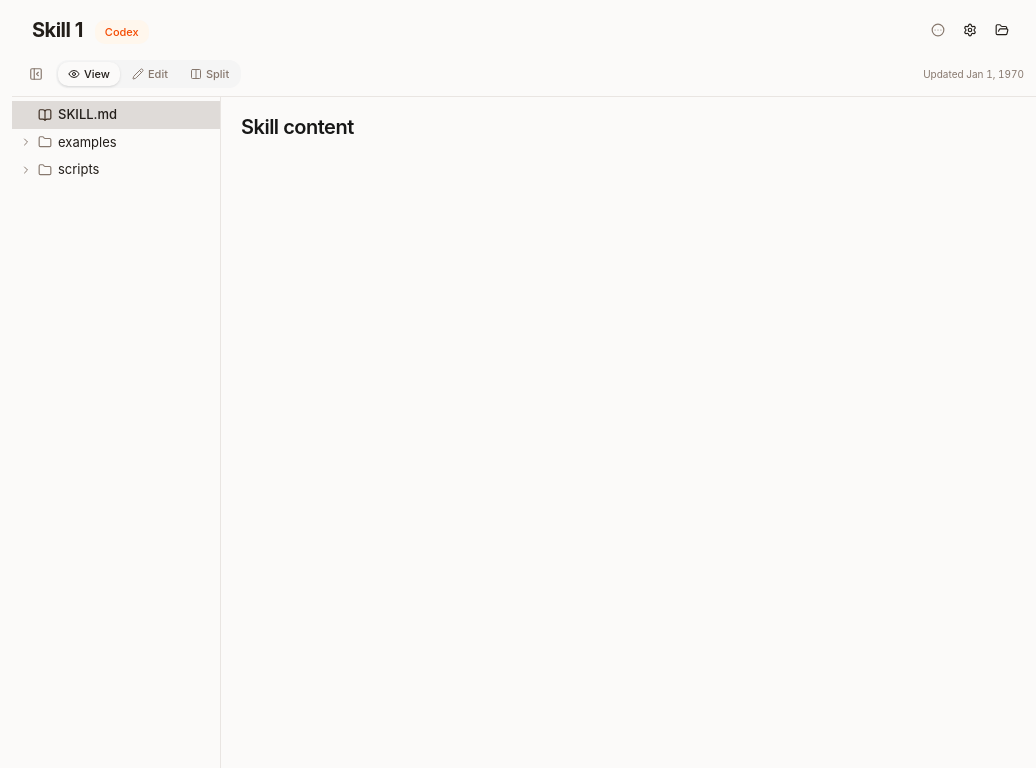
Test: SkillDetail › loads multiple expanded directories independently
The width and height of the screenshot is (1036, 768).
Click the button "examples". click: (116,142)
box: [12,128,220,156]
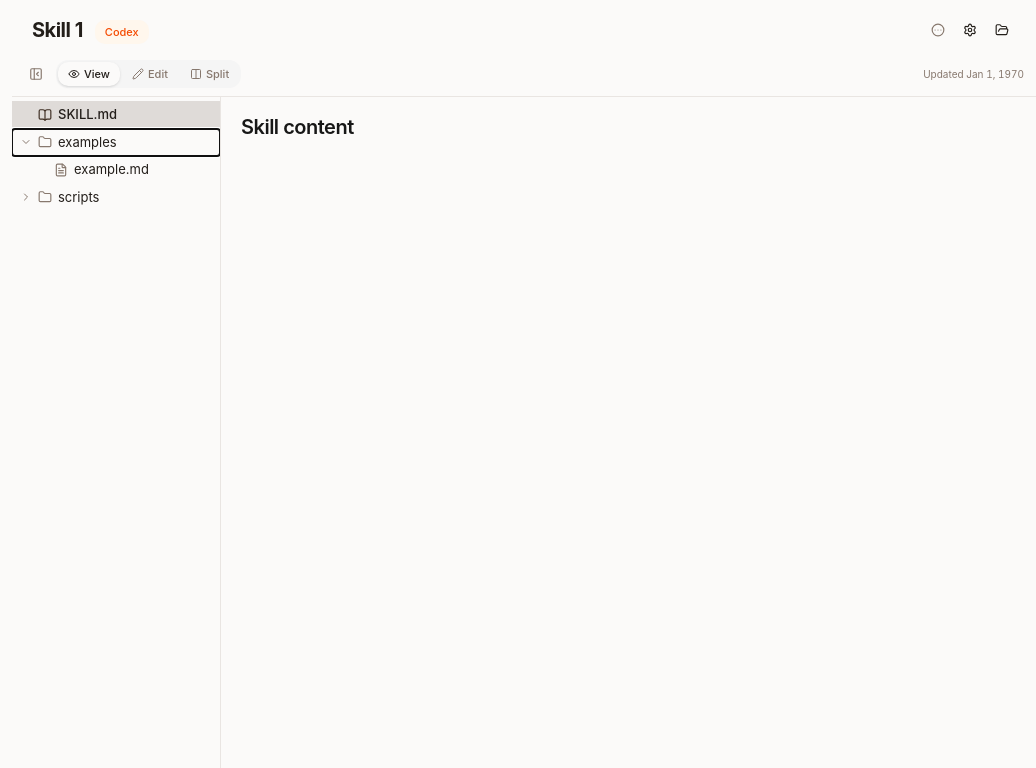
Click the button "scripts". click: (116,197)
box: [12,184,220,211]
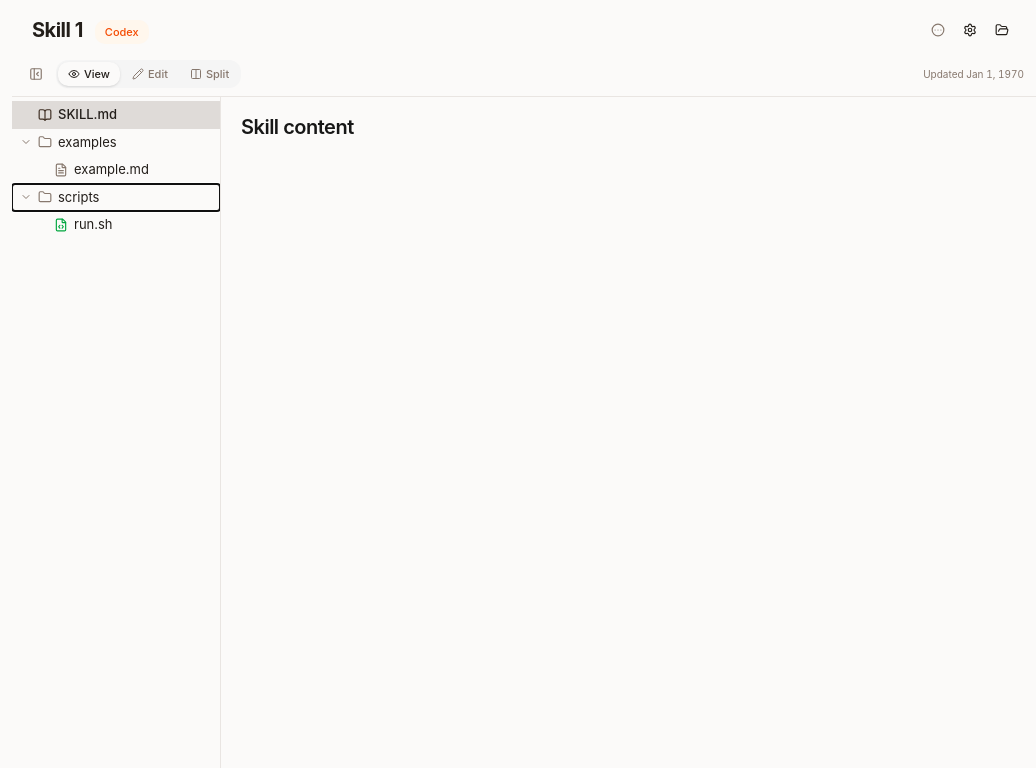
Check: the text "example.md" is shown, box [74,161,149,177]
Check: the text "run.sh" is shown, box [74,216,113,232]
